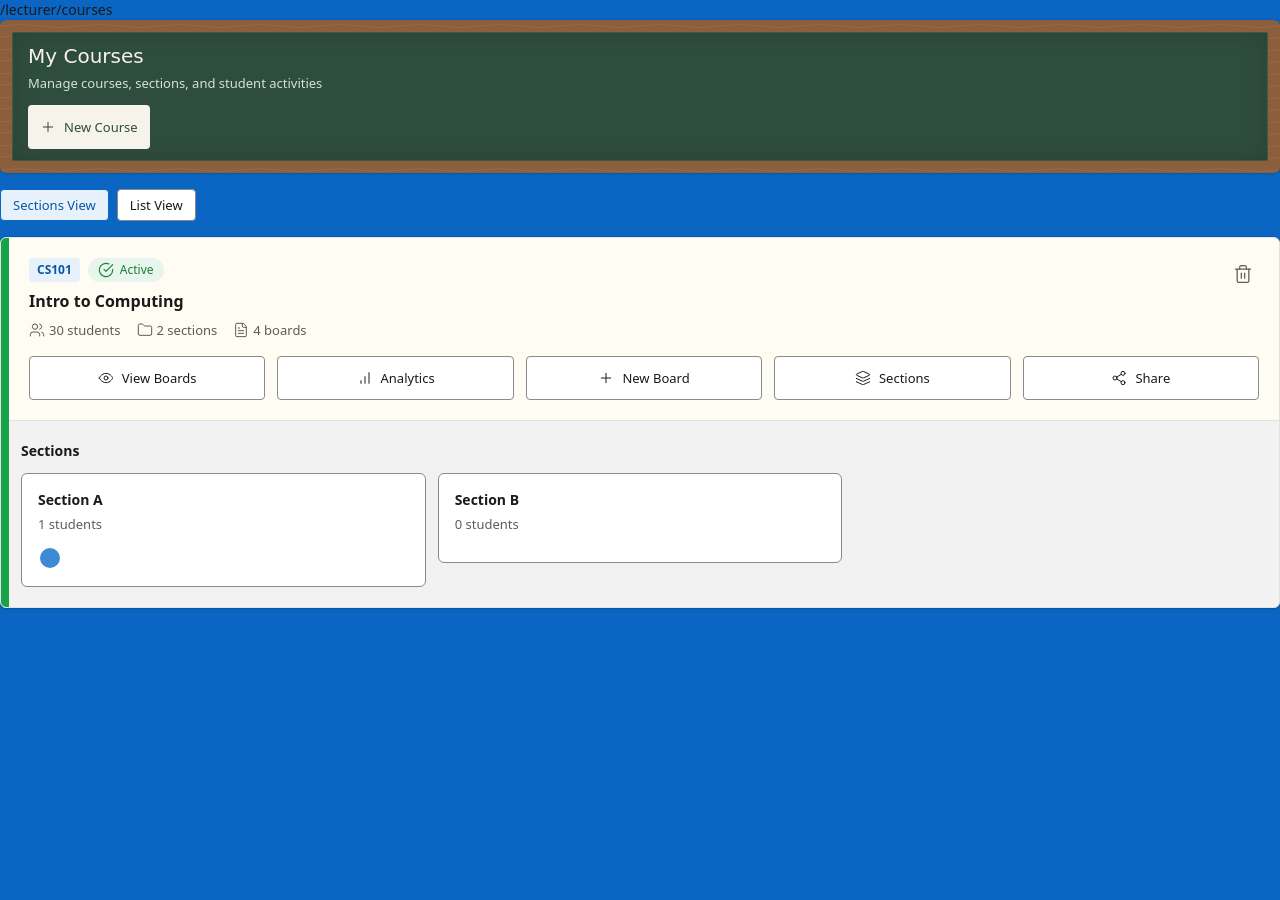
Test: LecturerCoursesPage › the section tiles open a labelled dialog that Escape closes
Click the button "Section A 1 students" at (66, 500), box [21,473,426,587]
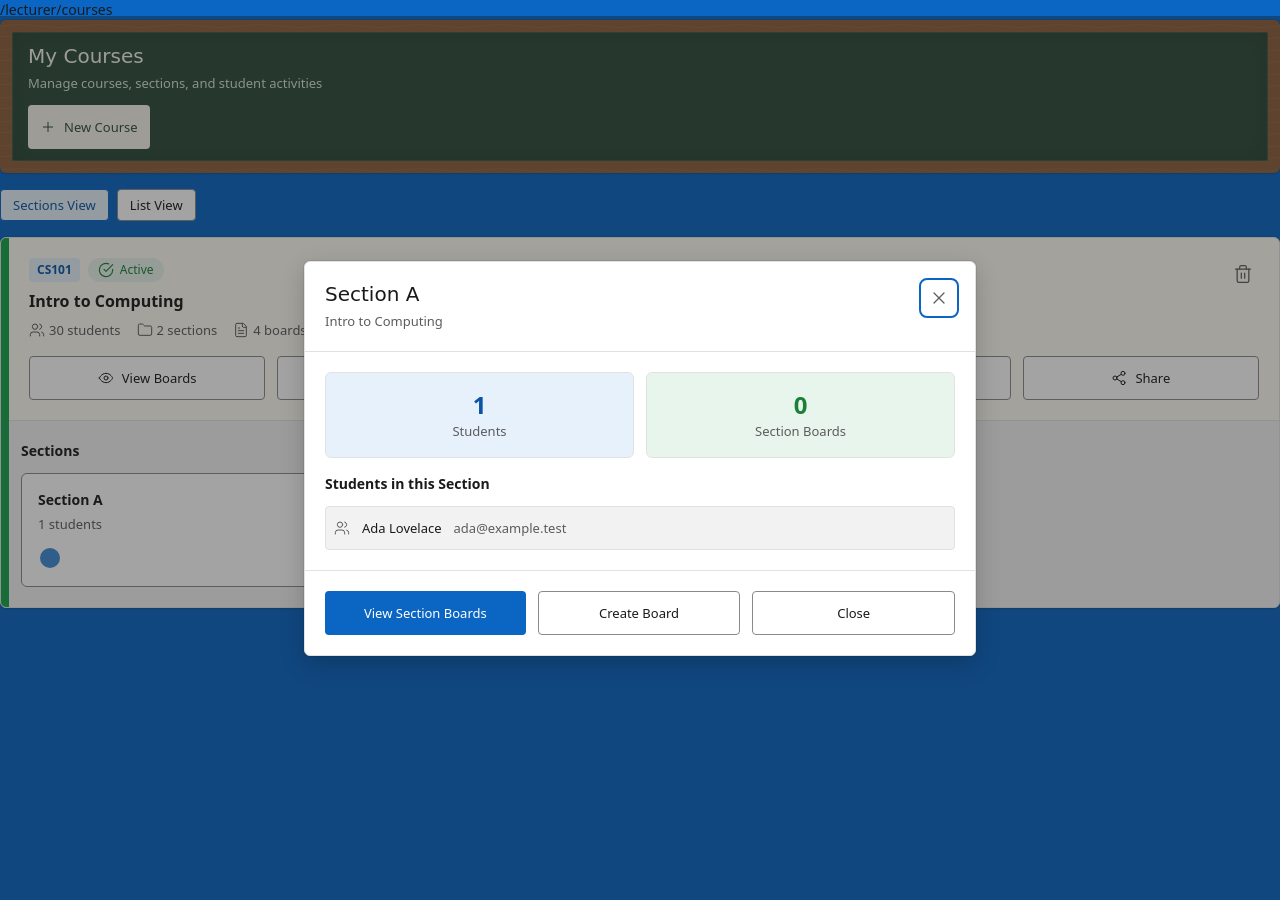
Now the text "Ada Lovelace" is shown, box [362,518,442,538]
Now the text "Students" is shown, box [452,422,507,440]
Press Escape
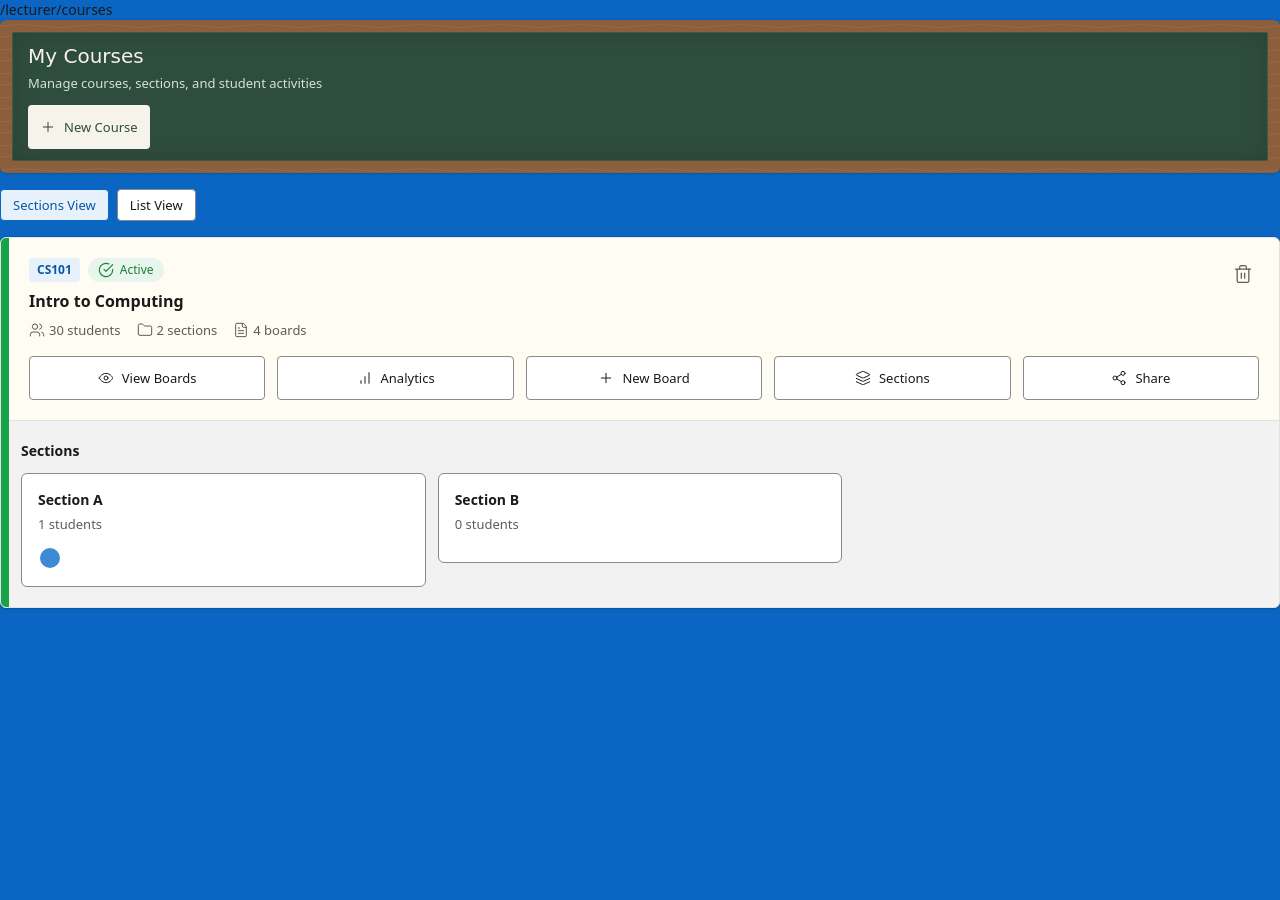
Now the dialog is gone
